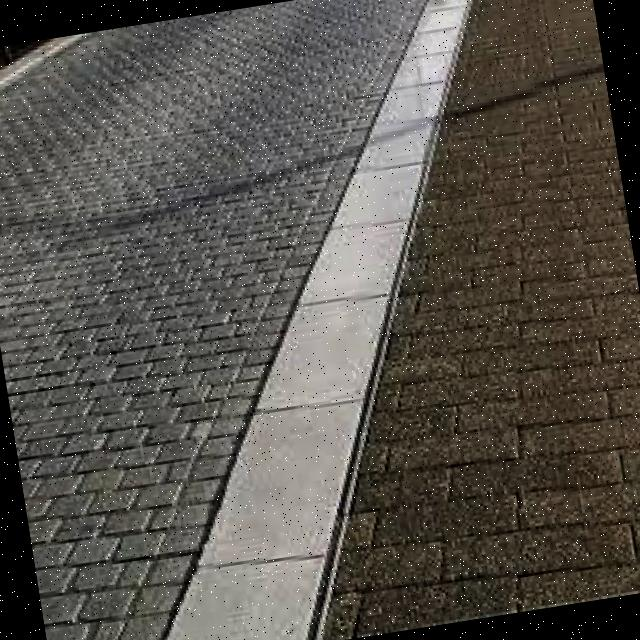curb: (128, 364, 433, 640), (266, 80, 500, 395), (404, 1, 501, 87)
